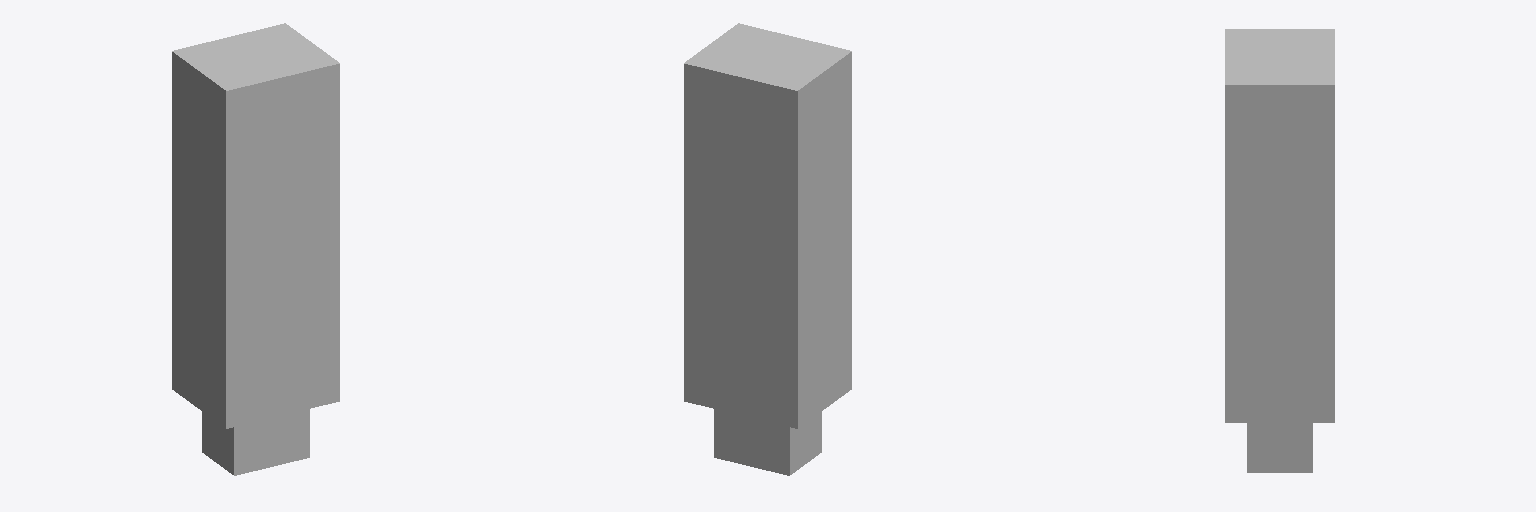
The model's file is Tree.obj.
3 renders of one model, left to right at view 1: azimuth 30°, elevation 25°; view 2: azimuth 150°, elevation 25°; view 3: azimuth 270°, elevation 25°, orthographic.
Visible parts, largest first — view 1: object 1; view 2: object 1; view 3: object 1.
Part boxes in pixels (x1,y1,x2,y2): object 1: (172,23,339,475); object 1: (684,23,851,475); object 1: (1225,29,1334,472).
Bounding box in the file's own units: 0.6 × 2 × 0.5.